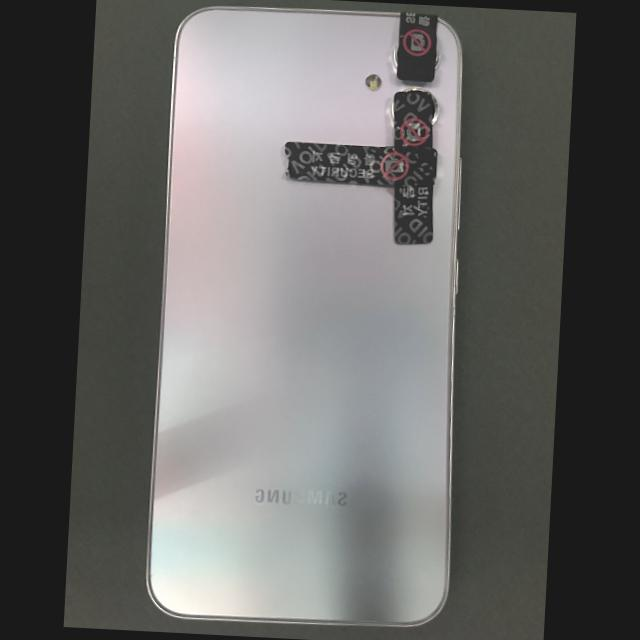lens: (431, 95, 437, 125), (434, 46, 439, 71)
phone: (145, 5, 463, 628)
sticker: (284, 141, 437, 186), (397, 11, 438, 82), (393, 186, 432, 245)
